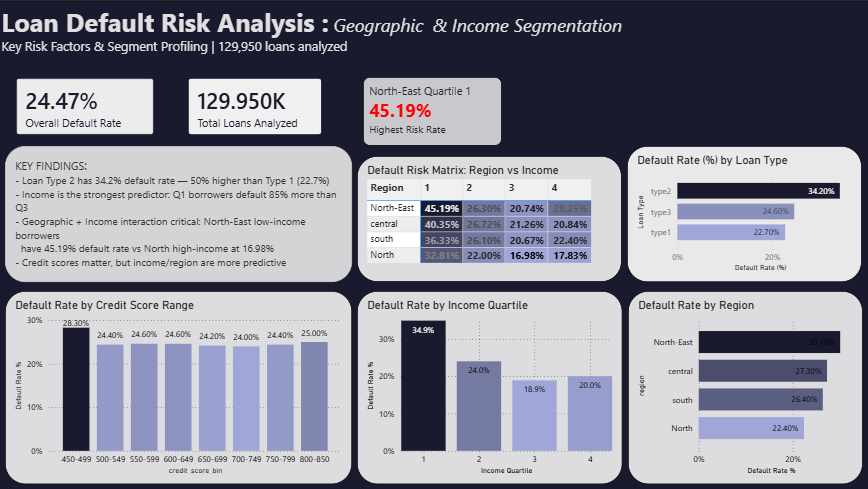

What the dashboard file says about the page in this screenshot:
{"tool":"powerbi","page":{"name":"Part-1","canvas":[1280,720],"ordinal":0},"visuals":[{"type":"clusteredColumnChart","title":"Default Rate by Credit Score Range","fields":{"Category":["Analysis_CreditScore_DefaultRate (2).credit_score_bin"],"Y":["Avg(Analysis_CreditScore_DefaultRate (2).default_rate)"]},"box":[10.1,426.7,510,283.9],"z":1000},{"type":"clusteredColumnChart","title":"Default Rate by Income Quartile","fields":{"Category":["Analysis_Income_DefaultRate.income_quartile"],"Y":["Sum(Analysis_Income_DefaultRate.default_rate)"]},"box":[527.5,426.7,390,283.9],"z":2000},{"type":"clusteredBarChart","title":"Default Rate  by Region","fields":{"Category":["Analysis_Region_DefaultRate.region"],"Y":["Avg(Analysis_Region_DefaultRate.default_rate)"]},"box":[925.6,426.7,345,283.9],"z":3000},{"type":"pivotTable","title":"Default  Risk Matrix: Region vs Income","fields":{"Rows":["Analysis_Region_Income_DefaultRate.region"],"Columns":["Analysis_Region_Income_DefaultRate.income_quartile"],"Values":["Avg(Analysis_Region_Income_DefaultRate.default_rate)"]},"box":[527.5,227.8,389.4,185.1],"z":4000},{"type":"textbox","box":[0,0,987.4,97],"z":5000},{"type":"cardVisual","fields":{"Data":["Sum(Analysis_CreditScore_DefaultRate.total)"]},"box":[263,97,229.2,116.1],"z":6000},{"type":"cardVisual","fields":{"Data":["Avg(Analysis_CreditScore_DefaultRate.default_rate)"]},"box":[10.3,97,235.1,116.1],"z":7000},{"type":"textbox","box":[10.3,213.1,509.9,199.8],"z":8000},{"type":"actionButton","box":[0,0,100,40],"z":9000},{"type":"textbox","box":[536.3,111.7,204.2,101.4],"z":10000},{"type":"clusteredBarChart","fields":{"Category":["Analysis_LoanType_DefaultRate.loan_type"],"Y":["Sum(Analysis_LoanType_DefaultRate.default_rate)"]},"box":[924.2,213.1,345.3,199.8],"z":10001}]}

Visuals, with their boxes in screenshot pixels (x1, y1, x2, y2), scaled from the page's 1280x720 canvas onto the 868x489 screenshot:
"Default Rate by Credit Score Range" clusteredColumnChart: 7 290 353 483
"Default Rate by Income Quartile" clusteredColumnChart: 358 290 622 483
"Default Rate  by Region" clusteredBarChart: 628 290 862 483
"Default  Risk Matrix: Region vs Income" pivotTable: 358 155 622 280
textbox: 0 0 670 66
cardVisual - Sum(Analysis_CreditScore_DefaultRate.total): 178 66 334 145
cardVisual - Avg(Analysis_CreditScore_DefaultRate.default_rate): 7 66 166 145
textbox: 7 145 353 280
actionButton: 0 0 68 27
textbox: 364 76 502 145
clusteredBarChart - Analysis_LoanType_DefaultRate.loan_type x Sum(Analysis_LoanType_DefaultRate.default_rate): 627 145 861 280
